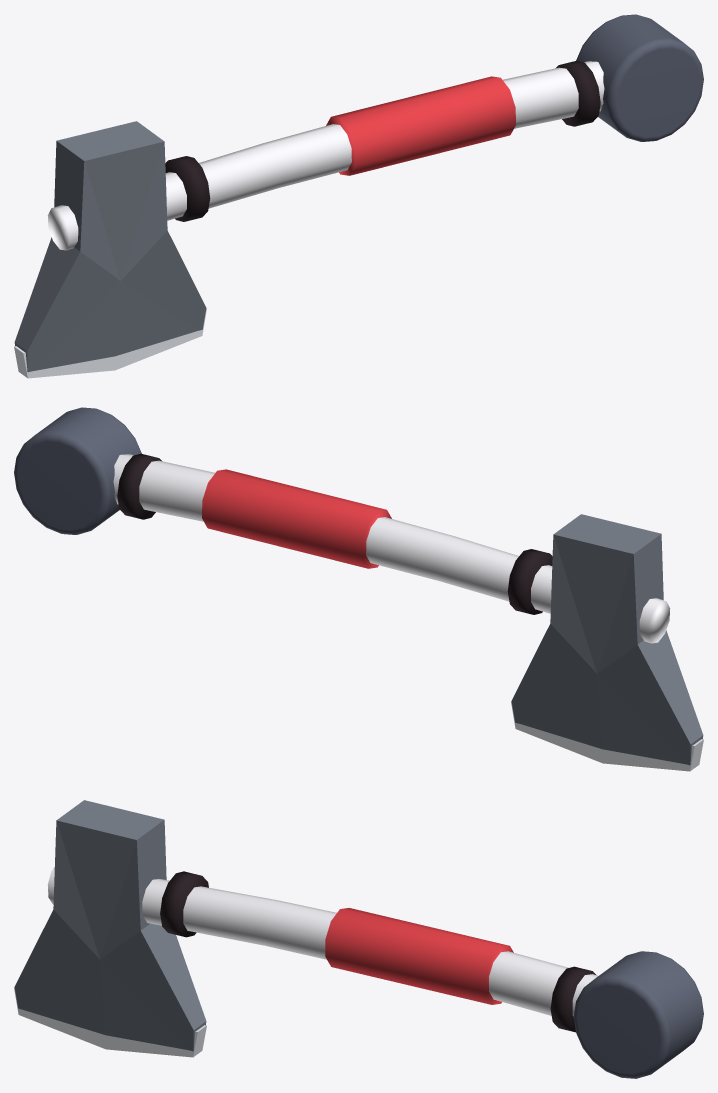
File: LogJamAxe.obj
3 views of the same model, one above another, from view 1: azimuth 30°, elevation 25°; view 2: azimuth 150°, elevation 25°; view 3: azimuth 330°, elevation 25° (orthographic).
Parts seen in each view (by area): view 1: Head, Handle, Collar, Grip, Bands, Edge; view 2: Head, Handle, Collar, Grip, Bands, Edge; view 3: Head, Collar, Handle, Grip, Bands, Edge.
Boxes of the visible parts, x1,y1,x2,y2 form: Head: (14,121,206,372); Handle: (47,61,604,250); Collar: (576,14,703,141); Grip: (326,76,515,175); Bands: (165,60,600,221); Edge: (14,308,206,378); Head: (511,514,703,765); Handle: (113,454,670,643); Collar: (14,407,141,534); Grip: (202,469,391,568); Bands: (117,453,552,614); Edge: (511,701,703,771); Head: (14,800,206,1051); Collar: (573,951,703,1078); Handle: (47,867,598,1016); Grip: (325,908,513,1004); Bands: (160,871,595,1032); Edge: (14,987,206,1057).
Bounding box in the file's own units: 5.82 × 1.88 × 0.6.
